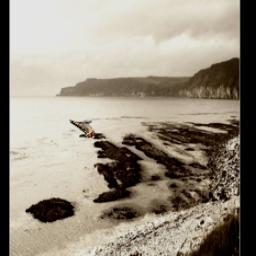Swallow: (69, 120, 95, 138)
